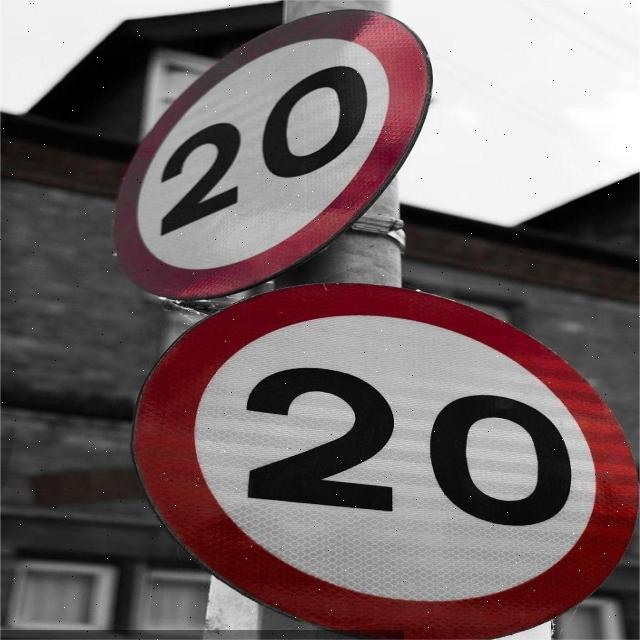speed limit 20: (126, 278, 640, 640), (108, 10, 432, 300)
